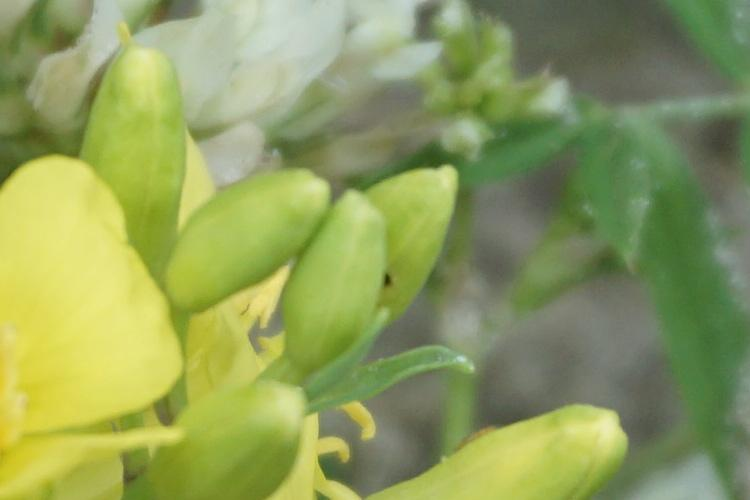bud: (377, 406, 626, 495), (89, 46, 189, 257), (163, 172, 325, 289), (158, 388, 313, 494), (296, 185, 381, 376), (367, 163, 455, 323)
white: (166, 12, 422, 151)
yellow: (3, 159, 175, 479)
